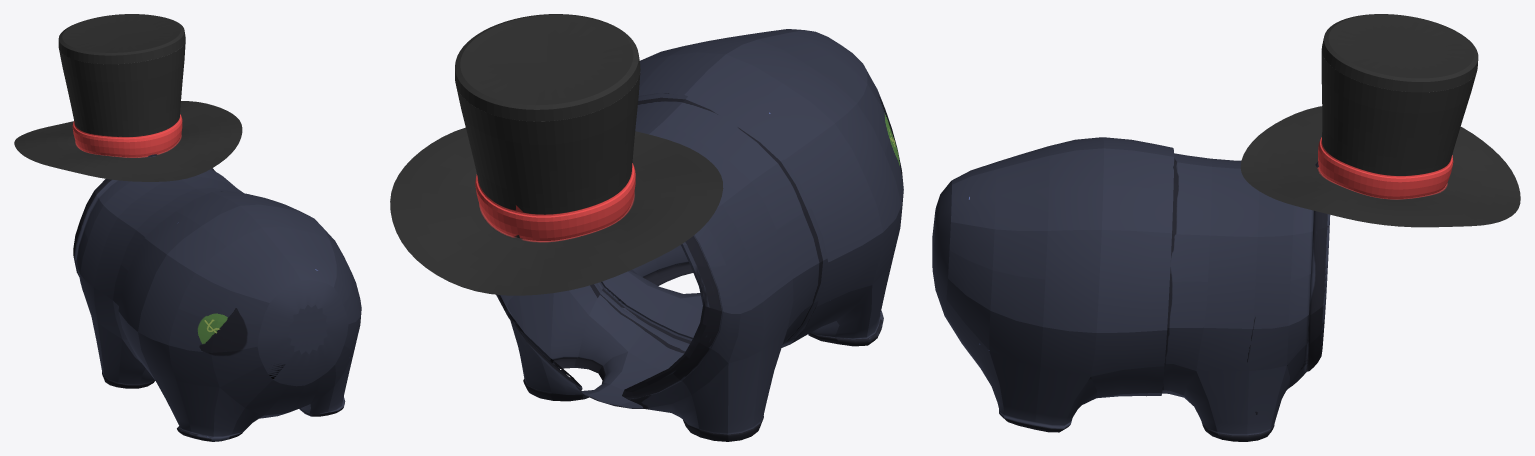
The model's file is Costume.fbx.
The picture shows the model from 3 angles, left to right: view 1: azimuth 30°, elevation 25°; view 2: azimuth 150°, elevation 25°; view 3: azimuth 270°, elevation 25°; orthographic projection. The views are drawn at different scales.
Parts seen in each view (by area): view 1: Сфера.001, Цилиндр; view 2: Сфера.001, Цилиндр; view 3: Сфера.001, Цилиндр.
Boxes of the visible parts, x1=… form: Сфера.001: x1=73, y1=154, x2=361, y2=441; Цилиндр: x1=14, y1=14, x2=242, y2=181; Сфера.001: x1=496, y1=29, x2=903, y2=441; Цилиндр: x1=390, y1=14, x2=723, y2=295; Сфера.001: x1=932, y1=137, x2=1330, y2=441; Цилиндр: x1=1240, y1=14, x2=1520, y2=227.
Size of the model in its own units: 420 by 557 by 827.
